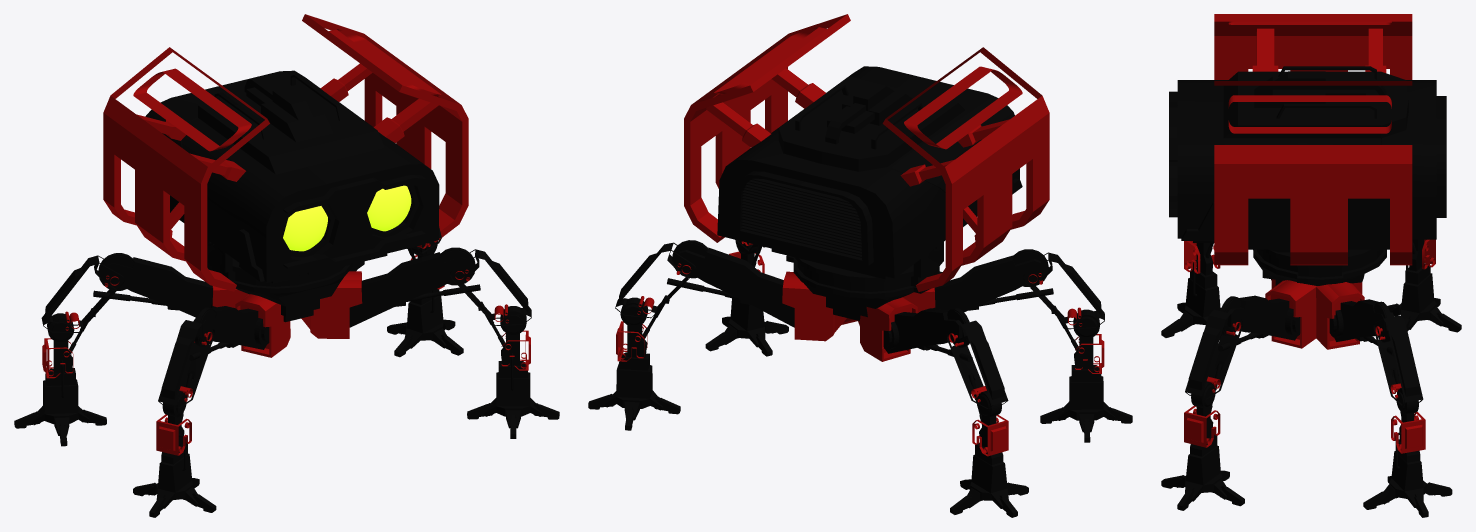
The model's file is temp_Robot.fbx.
The picture shows the model from 3 angles, left to right: view 1: azimuth 30°, elevation 25°; view 2: azimuth 150°, elevation 25°; view 3: azimuth 270°, elevation 25°; orthographic projection.
Visible parts, largest first — view 1: Line024, Box001, Line003, Cylinder005, Line020, Cylinder002, Cylinder004, Cylinder001, Box002, Sphere001, Box003, Cylinder003 (+7 smaller); view 2: Box001, Line024, Cylinder001, Line010, Cylinder003, Cylinder005, Cylinder004, Line015, Line020, Line021, Box002, Cylinder002 (+5 smaller); view 3: Line024, Box001, Cylinder002, Cylinder003, Cylinder001, Cylinder005, Cylinder004, Line003, Line004, Line011, Box002, Line010 (+4 smaller).
Part boxes in pixels (x1,y1,x2,y2): Line024: (103,14,468,291); Box001: (145,70,441,283); Line003: (349,247,475,327); Cylinder005: (14,313,106,446); Line020: (98,253,216,317); Cylinder002: (467,306,559,438); Cylinder004: (133,391,216,517); Cylinder001: (207,240,352,322); Box002: (244,76,333,142); Sphere001: (283,185,411,251); Box003: (283,175,425,269); Cylinder003: (387,241,463,357); Box001: (717,66,1022,279); Line024: (684,14,1049,291); Cylinder001: (786,242,943,320); Line010: (672,240,794,327); Cylinder003: (588,297,680,430); Cylinder005: (950,391,1028,517); Cylinder004: (1040,309,1132,442); Line015: (933,249,1048,312); Line020: (883,308,969,353); Line021: (946,320,1008,408); Box002: (825,82,912,144); Cylinder002: (705,240,788,356); Line024: (1214,14,1412,265); Box001: (1177,71,1446,252); Cylinder002: (1161,381,1244,510); Cylinder003: (1363,388,1452,517); Cylinder001: (1253,249,1386,285); Cylinder005: (1387,239,1461,332); Cylinder004: (1161,241,1221,339); Line003: (1220,295,1300,340); Line004: (1185,309,1243,399); Line011: (1373,315,1423,405); Box002: (1254,71,1386,107); Line010: (1329,299,1394,342).
Size of the model in its own units: 64.34 by 50.48 by 37.96.
